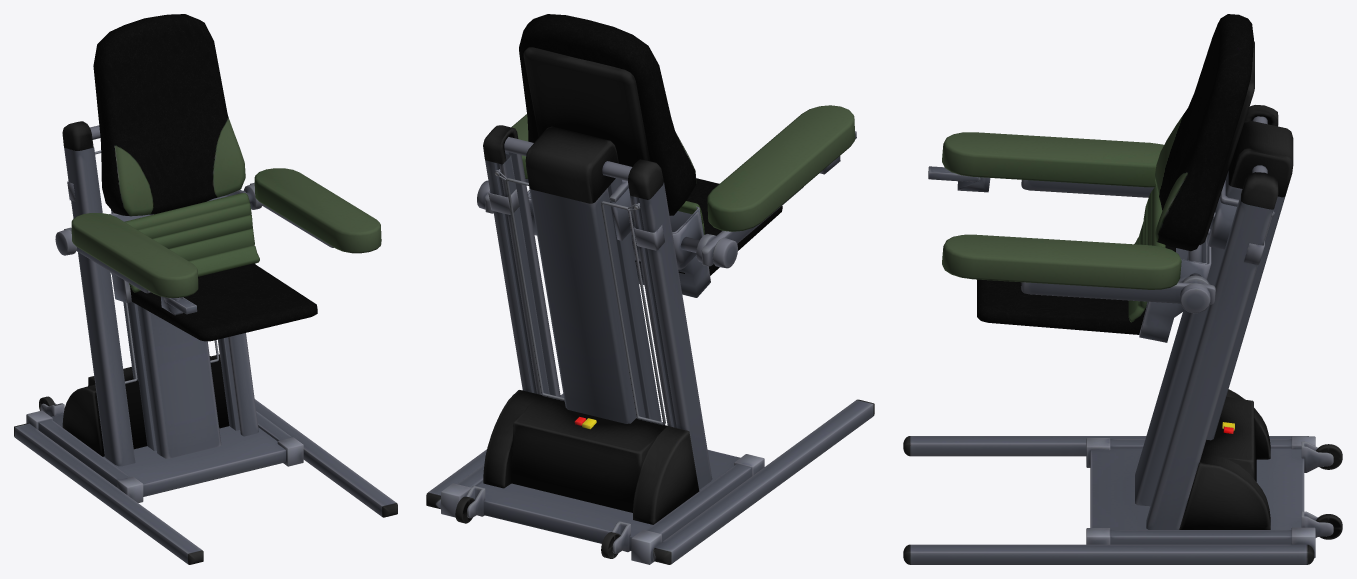
Rendered from Seat-cusion.glb.
3 renders of one model, left to right at view 1: azimuth 30°, elevation 25°; view 2: azimuth 150°, elevation 25°; view 3: azimuth 270°, elevation 25°, orthographic. The views are drawn at different scales.
Visible parts, largest first — view 1: i8-AR_seat cusion_231005; view 2: i8-AR_seat cusion_231005; view 3: i8-AR_seat cusion_231005.
Part boxes in pixels (<box>): i8-AR_seat cusion_231005: <box>14,14,397,564</box>; i8-AR_seat cusion_231005: <box>426,14,874,564</box>; i8-AR_seat cusion_231005: <box>903,14,1342,564</box>.
Bounding box in the file's own units: 0.55 × 0.975 × 0.81.
1 material, 1 textured.
